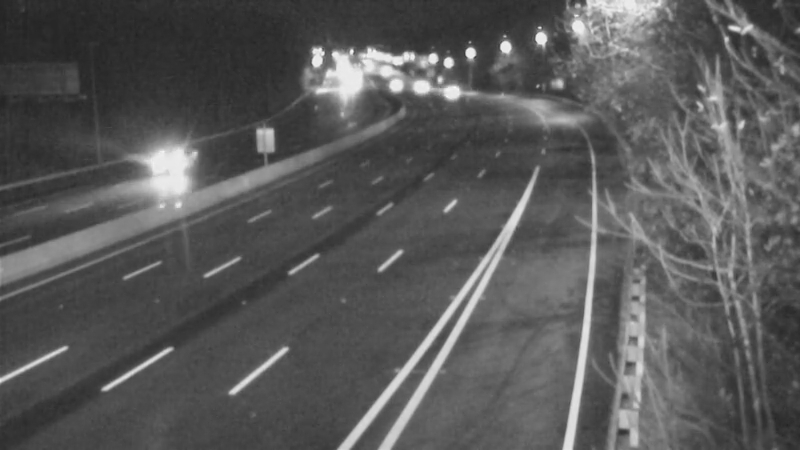vehicle: (129, 118, 209, 198), (369, 59, 419, 109), (395, 60, 445, 110), (425, 65, 475, 115)
